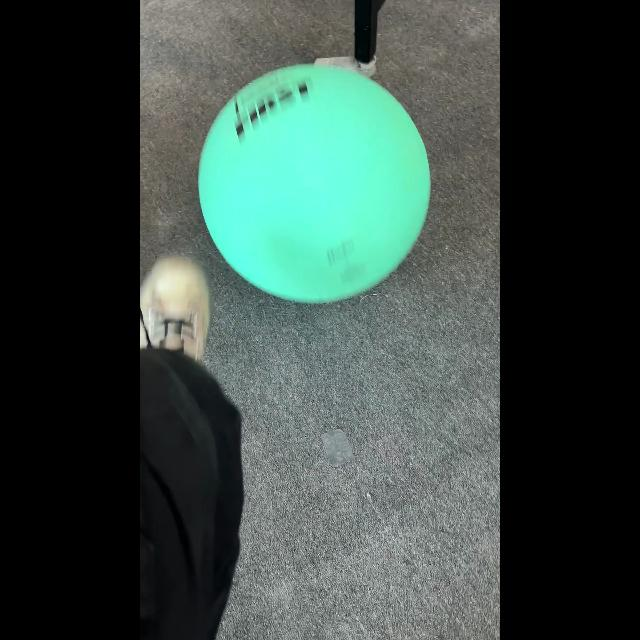ALGAE: (197, 62, 431, 306)
